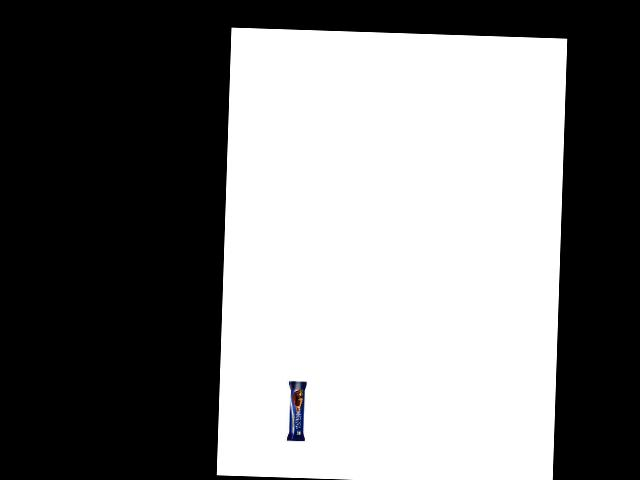chocolate: (286, 373, 312, 442)
